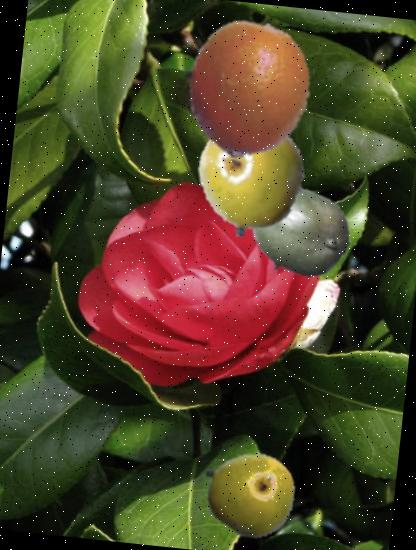Mango: (243, 178, 354, 289)
Maracuja: (189, 114, 315, 241), (198, 444, 300, 546)
Tangelo: (168, 13, 324, 168)
